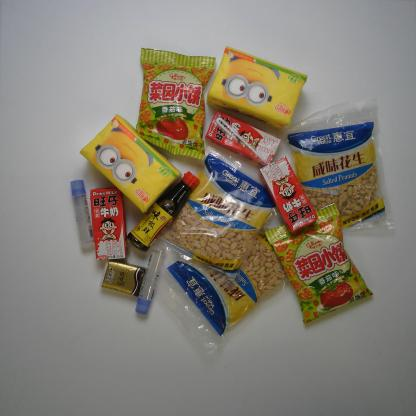Dried Fruit: (153, 224, 289, 357), (159, 145, 275, 284), (287, 100, 394, 230)
Milk: (259, 155, 319, 233), (204, 110, 281, 166), (89, 186, 128, 260)
Puffed Food: (262, 202, 374, 325), (135, 47, 217, 160)
Seasoner: (125, 171, 200, 254)
Stationery: (134, 245, 166, 315), (69, 178, 95, 245)
Tissue: (79, 113, 182, 214), (206, 45, 309, 130), (99, 260, 146, 298)
